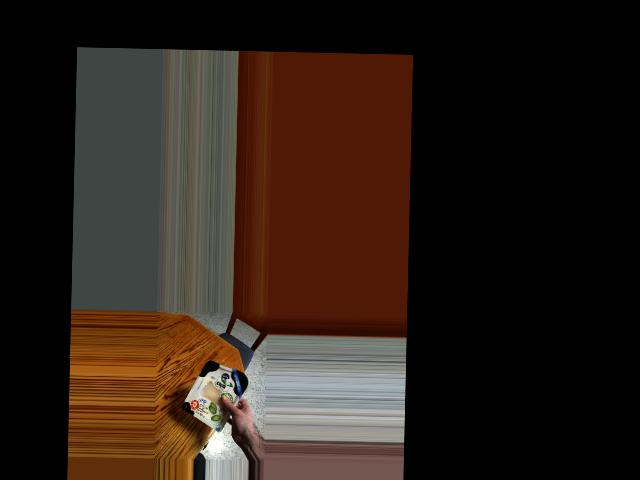cheese: (185, 361, 247, 424)
